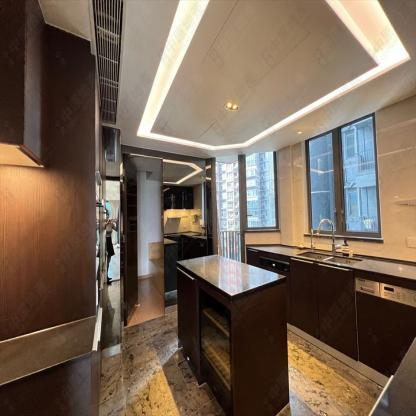Cupboard: (176, 254, 291, 415)
Faucet: (315, 215, 337, 251)
Oven: (354, 275, 416, 377)
Sink: (297, 251, 360, 266)
